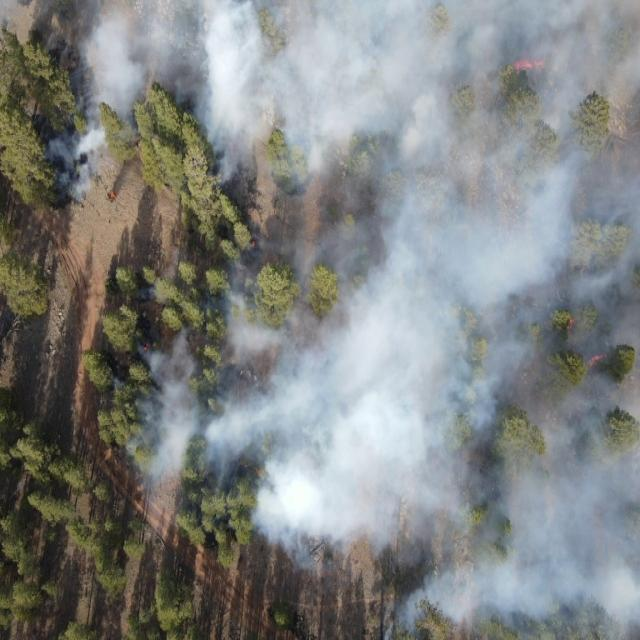fire: (512, 58, 546, 73), (586, 354, 604, 366), (566, 318, 576, 332), (239, 459, 254, 468), (142, 341, 152, 354), (250, 238, 259, 248), (110, 190, 118, 200), (253, 469, 264, 476), (580, 266, 586, 276)
smoke: (374, 0, 640, 640), (190, 97, 374, 571), (141, 0, 374, 98), (42, 0, 141, 198)
